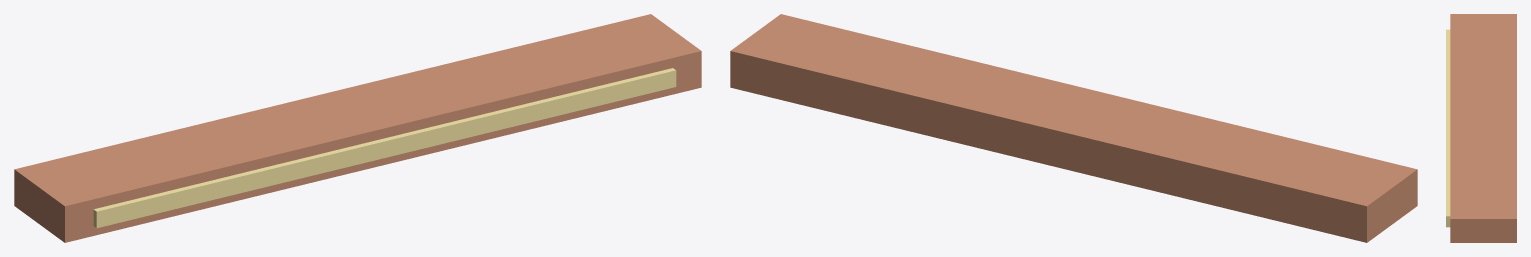
File: kit_arcade_marquee.glb
3 views of the same model, side by side, from view 1: azimuth 30°, elevation 25°; view 2: azimuth 150°, elevation 25°; view 3: azimuth 270°, elevation 25° (orthographic). The views are drawn at different scales.
Parts seen in each view (by area): view 1: kit_arcade_marquee-col; view 2: kit_arcade_marquee-col; view 3: kit_arcade_marquee-col.
Boxes of the visible parts, x1,y1,x2,y2 form: kit_arcade_marquee-col: (14,14,701,242); kit_arcade_marquee-col: (730,14,1417,242); kit_arcade_marquee-col: (1446,14,1516,242).
Bounding box in the file's own units: 4 × 0.22 × 0.585.
